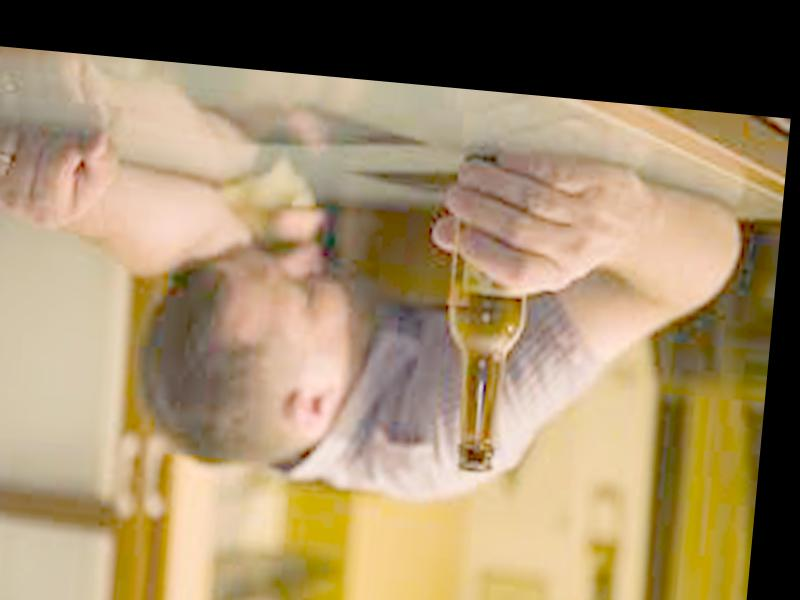Beer: (436, 151, 535, 477)
